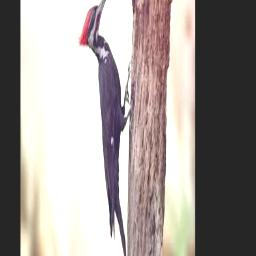Woodpecker: (79, 0, 132, 256)
